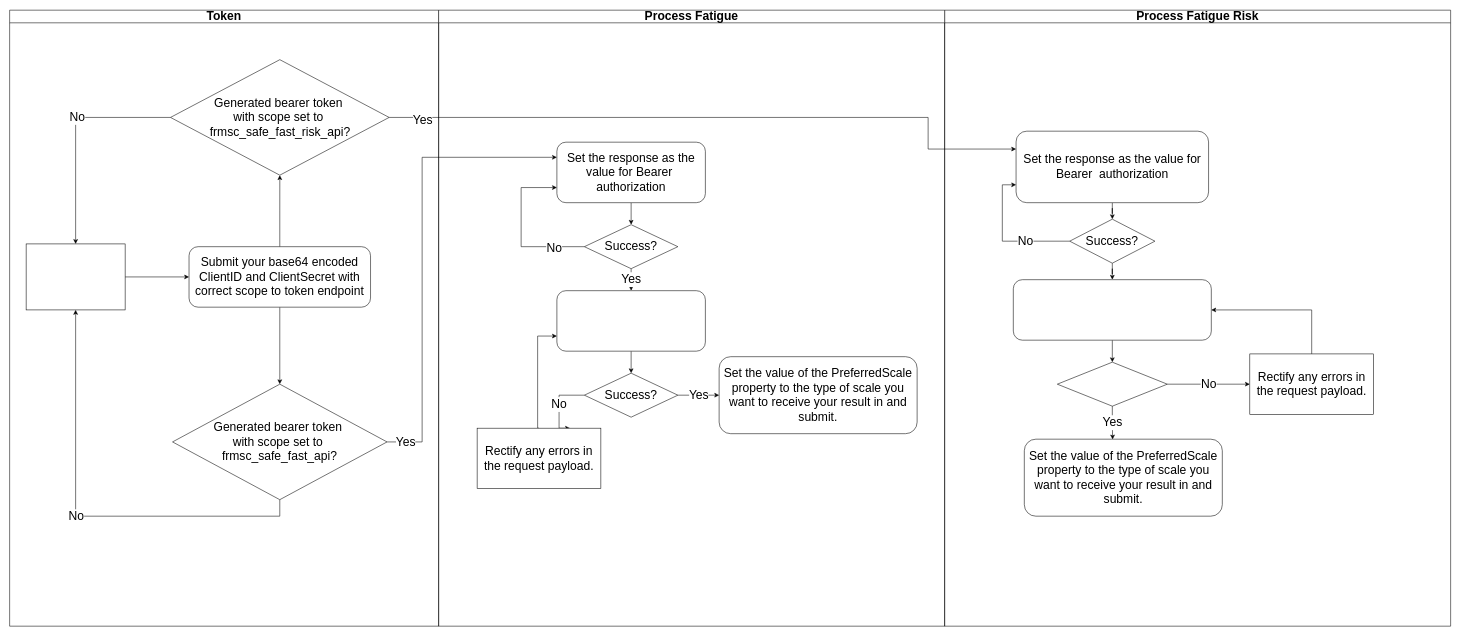
Some shapes in this 1460 by 636 pixel diagram are drawn without their labels. The centre of each missing label's shape, as x and y in pixels:
"Check that you have the right credentials" goes at pixel 75 276.
"Send the same request payload that you used with Process Fatigue endpoint." goes at pixel 1112 309.
"Submit the roster data and other properties as JSON" goes at pixel 630 320.
"Success" goes at pixel 1112 384.
